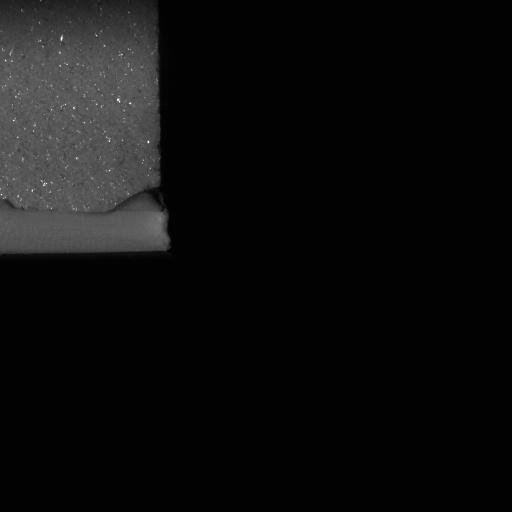bengque: (97, 184, 167, 215)
